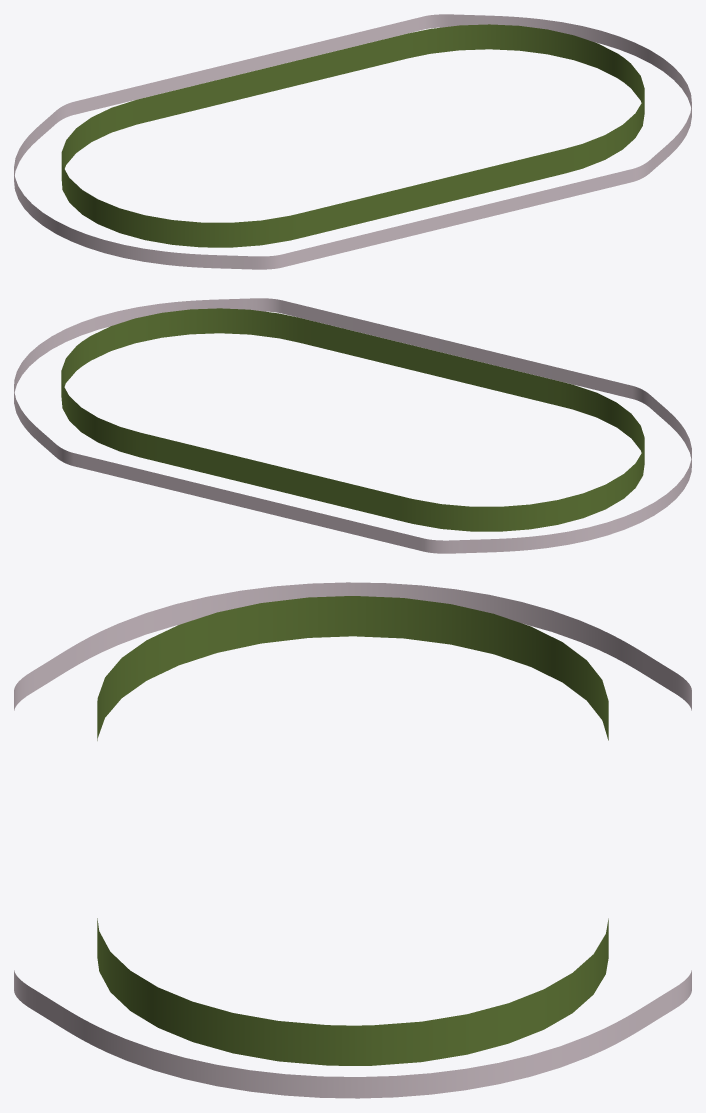
The model's file is TrackBorder.fbx.
The picture shows the model from 3 angles, top to bottom: view 1: azimuth 30°, elevation 25°; view 2: azimuth 150°, elevation 25°; view 3: azimuth 270°, elevation 25°; orthographic projection. The views are drawn at different scales.
Visible parts, largest first — view 1: TrackBorderIn, Mesh; view 2: TrackBorderIn, Mesh; view 3: TrackBorderIn, Mesh.
Boxes of the visible parts, <box> form: TrackBorderIn: <box>61,24,644,247</box>; Mesh: <box>14,14,691,269</box>; TrackBorderIn: <box>61,308,644,531</box>; Mesh: <box>14,298,691,553</box>; TrackBorderIn: <box>97,596,608,1065</box>; Mesh: <box>14,582,691,1098</box>.
Bounding box in the file's own units: 173 × 6.6 × 100.
